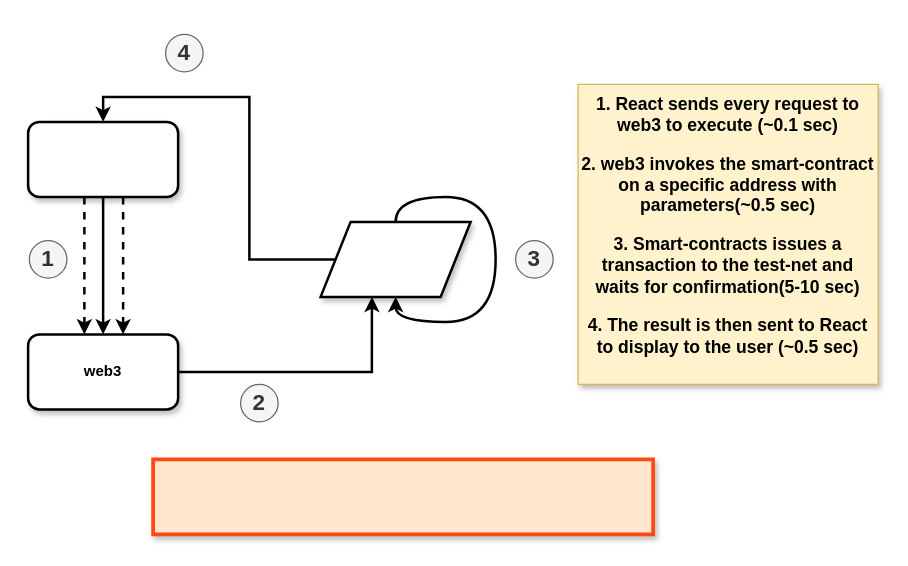
Image size: 908x566. Some labels were removed from this diagram. The centre of each missing label's shape, as x and y in pixels:
"Average Time : ~8 Seconds on every user Interaction with the App!" belongs at point 404,498.
"React App" belongs at point 103,160.
"Smart Contract" belongs at point 396,260.
